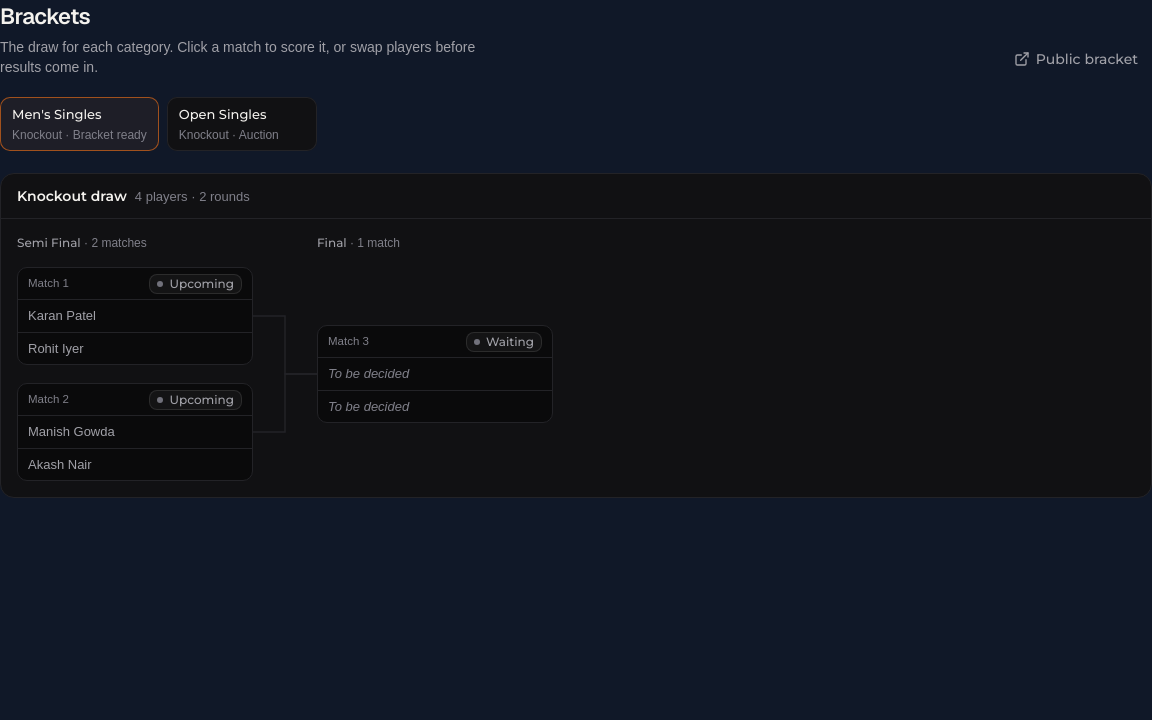
Scenario: BracketManagementSection › opens matches without draw or scoring actions when the tournament is locked
Click the button with aria-label "Match 1: Karan Patel vs Rohit Iyer".
click(135, 332)  # box [18,300,252,364]
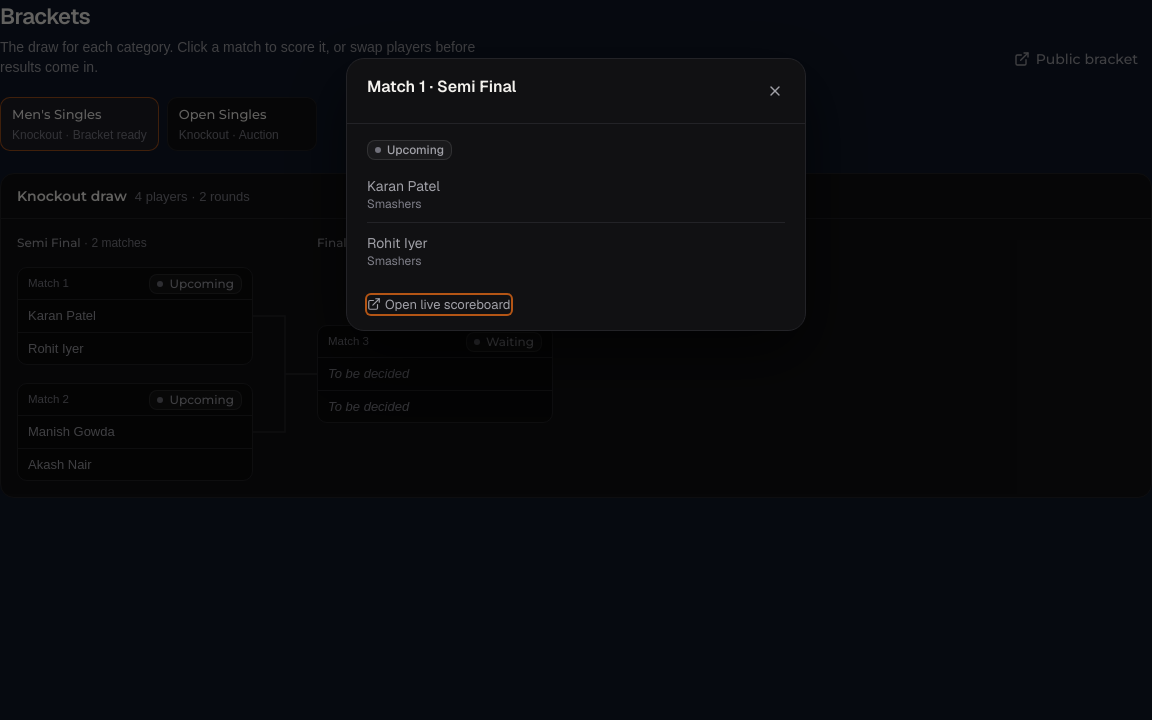
Expected: the link "Open live scoreboard" is shown, [367,295,511,314]
Press Escape
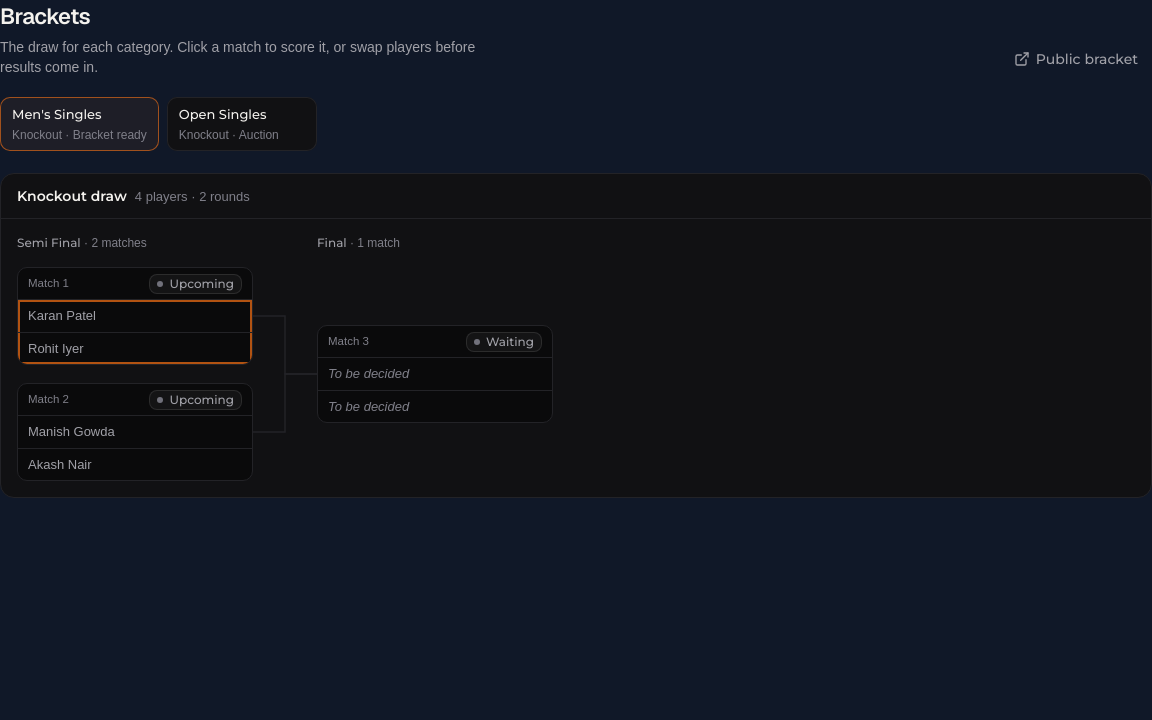
Click the tab "Open Singles Knockout · Auction".
click(242, 124)  # box [167,97,317,150]
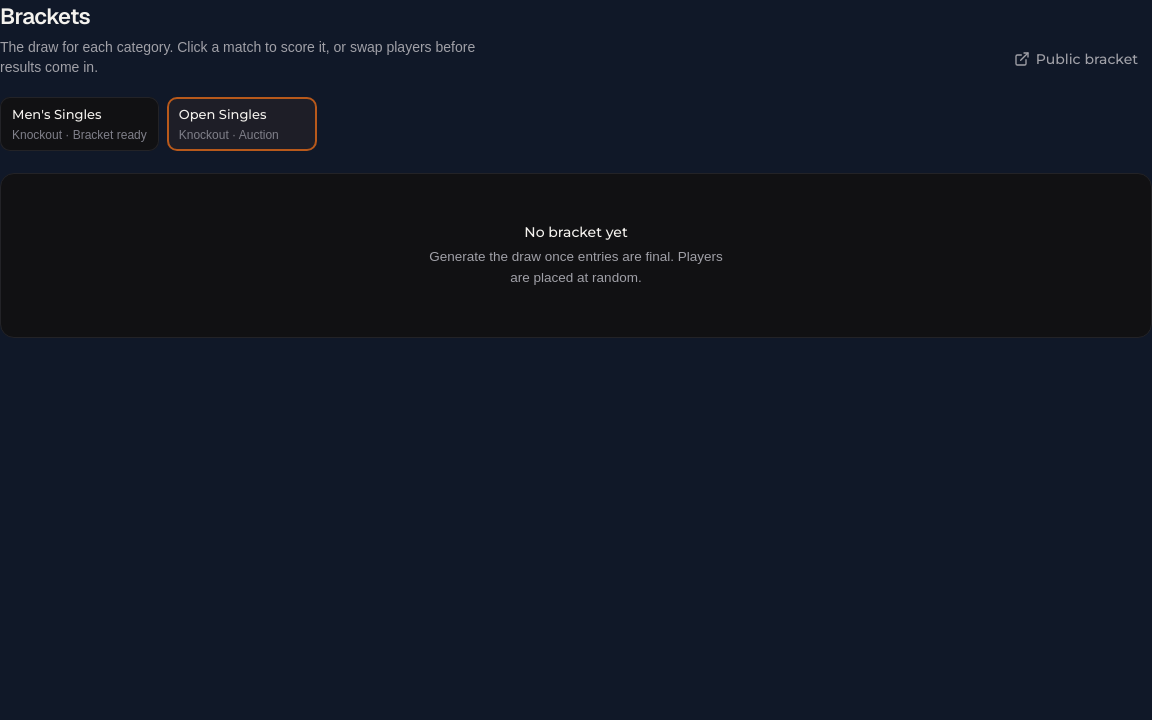
Expected: the text "No bracket yet" is shown, [524,222,628,240]
